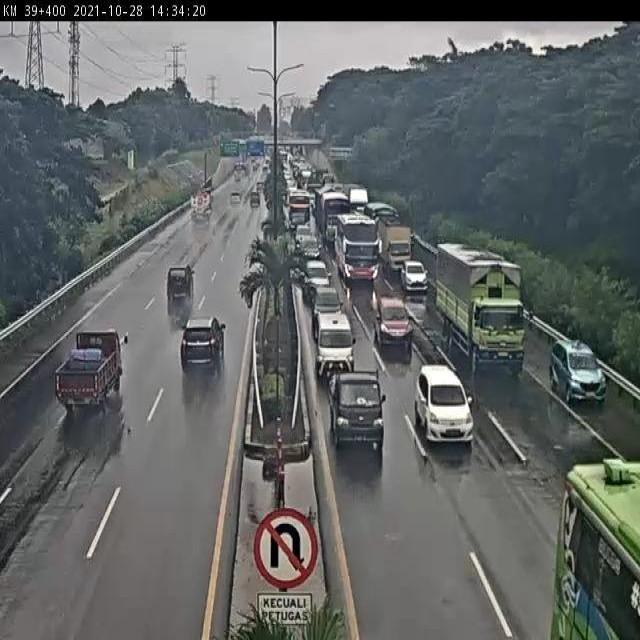big bus: (334, 212, 380, 281)
big truck: (432, 236, 527, 372), (377, 219, 413, 273), (315, 187, 349, 244)
car: (327, 365, 386, 455), (413, 364, 474, 449), (549, 333, 611, 404), (315, 311, 356, 380), (181, 313, 228, 368), (374, 292, 415, 352), (311, 280, 342, 325), (303, 258, 330, 298), (164, 263, 195, 297), (402, 260, 431, 295), (300, 236, 321, 263), (294, 221, 312, 247)
small truck: (55, 328, 130, 413)
